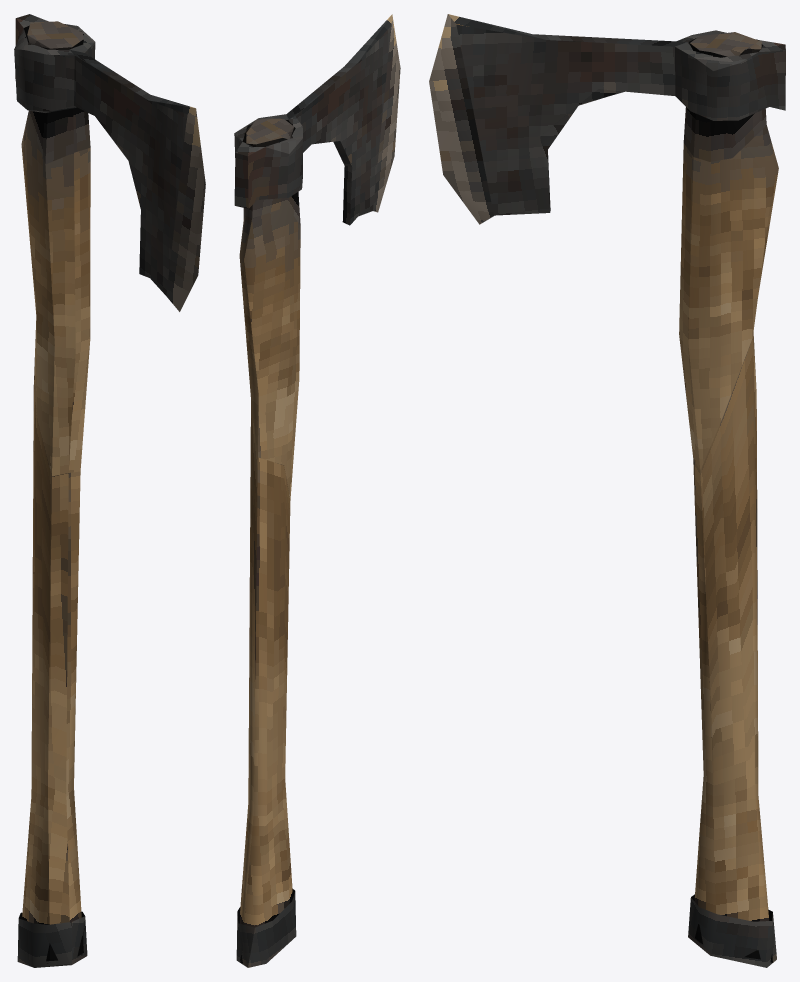
Rendered from wooden_axe.glb.
The picture shows the model from 3 angles, left to right: view 1: azimuth 30°, elevation 25°; view 2: azimuth 150°, elevation 25°; view 3: azimuth 270°, elevation 25°; orthographic projection. The views are drawn at different scales.
Visible parts, largest first — view 1: wooden_axe; view 2: wooden_axe; view 3: wooden_axe.
Part boxes in pixels (bbox=[...]): wooden_axe: bbox=[14, 14, 205, 967]; wooden_axe: bbox=[234, 14, 400, 967]; wooden_axe: bbox=[429, 14, 785, 967].
Size of the model in its own units: 0.0473 by 0.6298 by 0.2151.
Materials: 1 (1 with a texture image).
